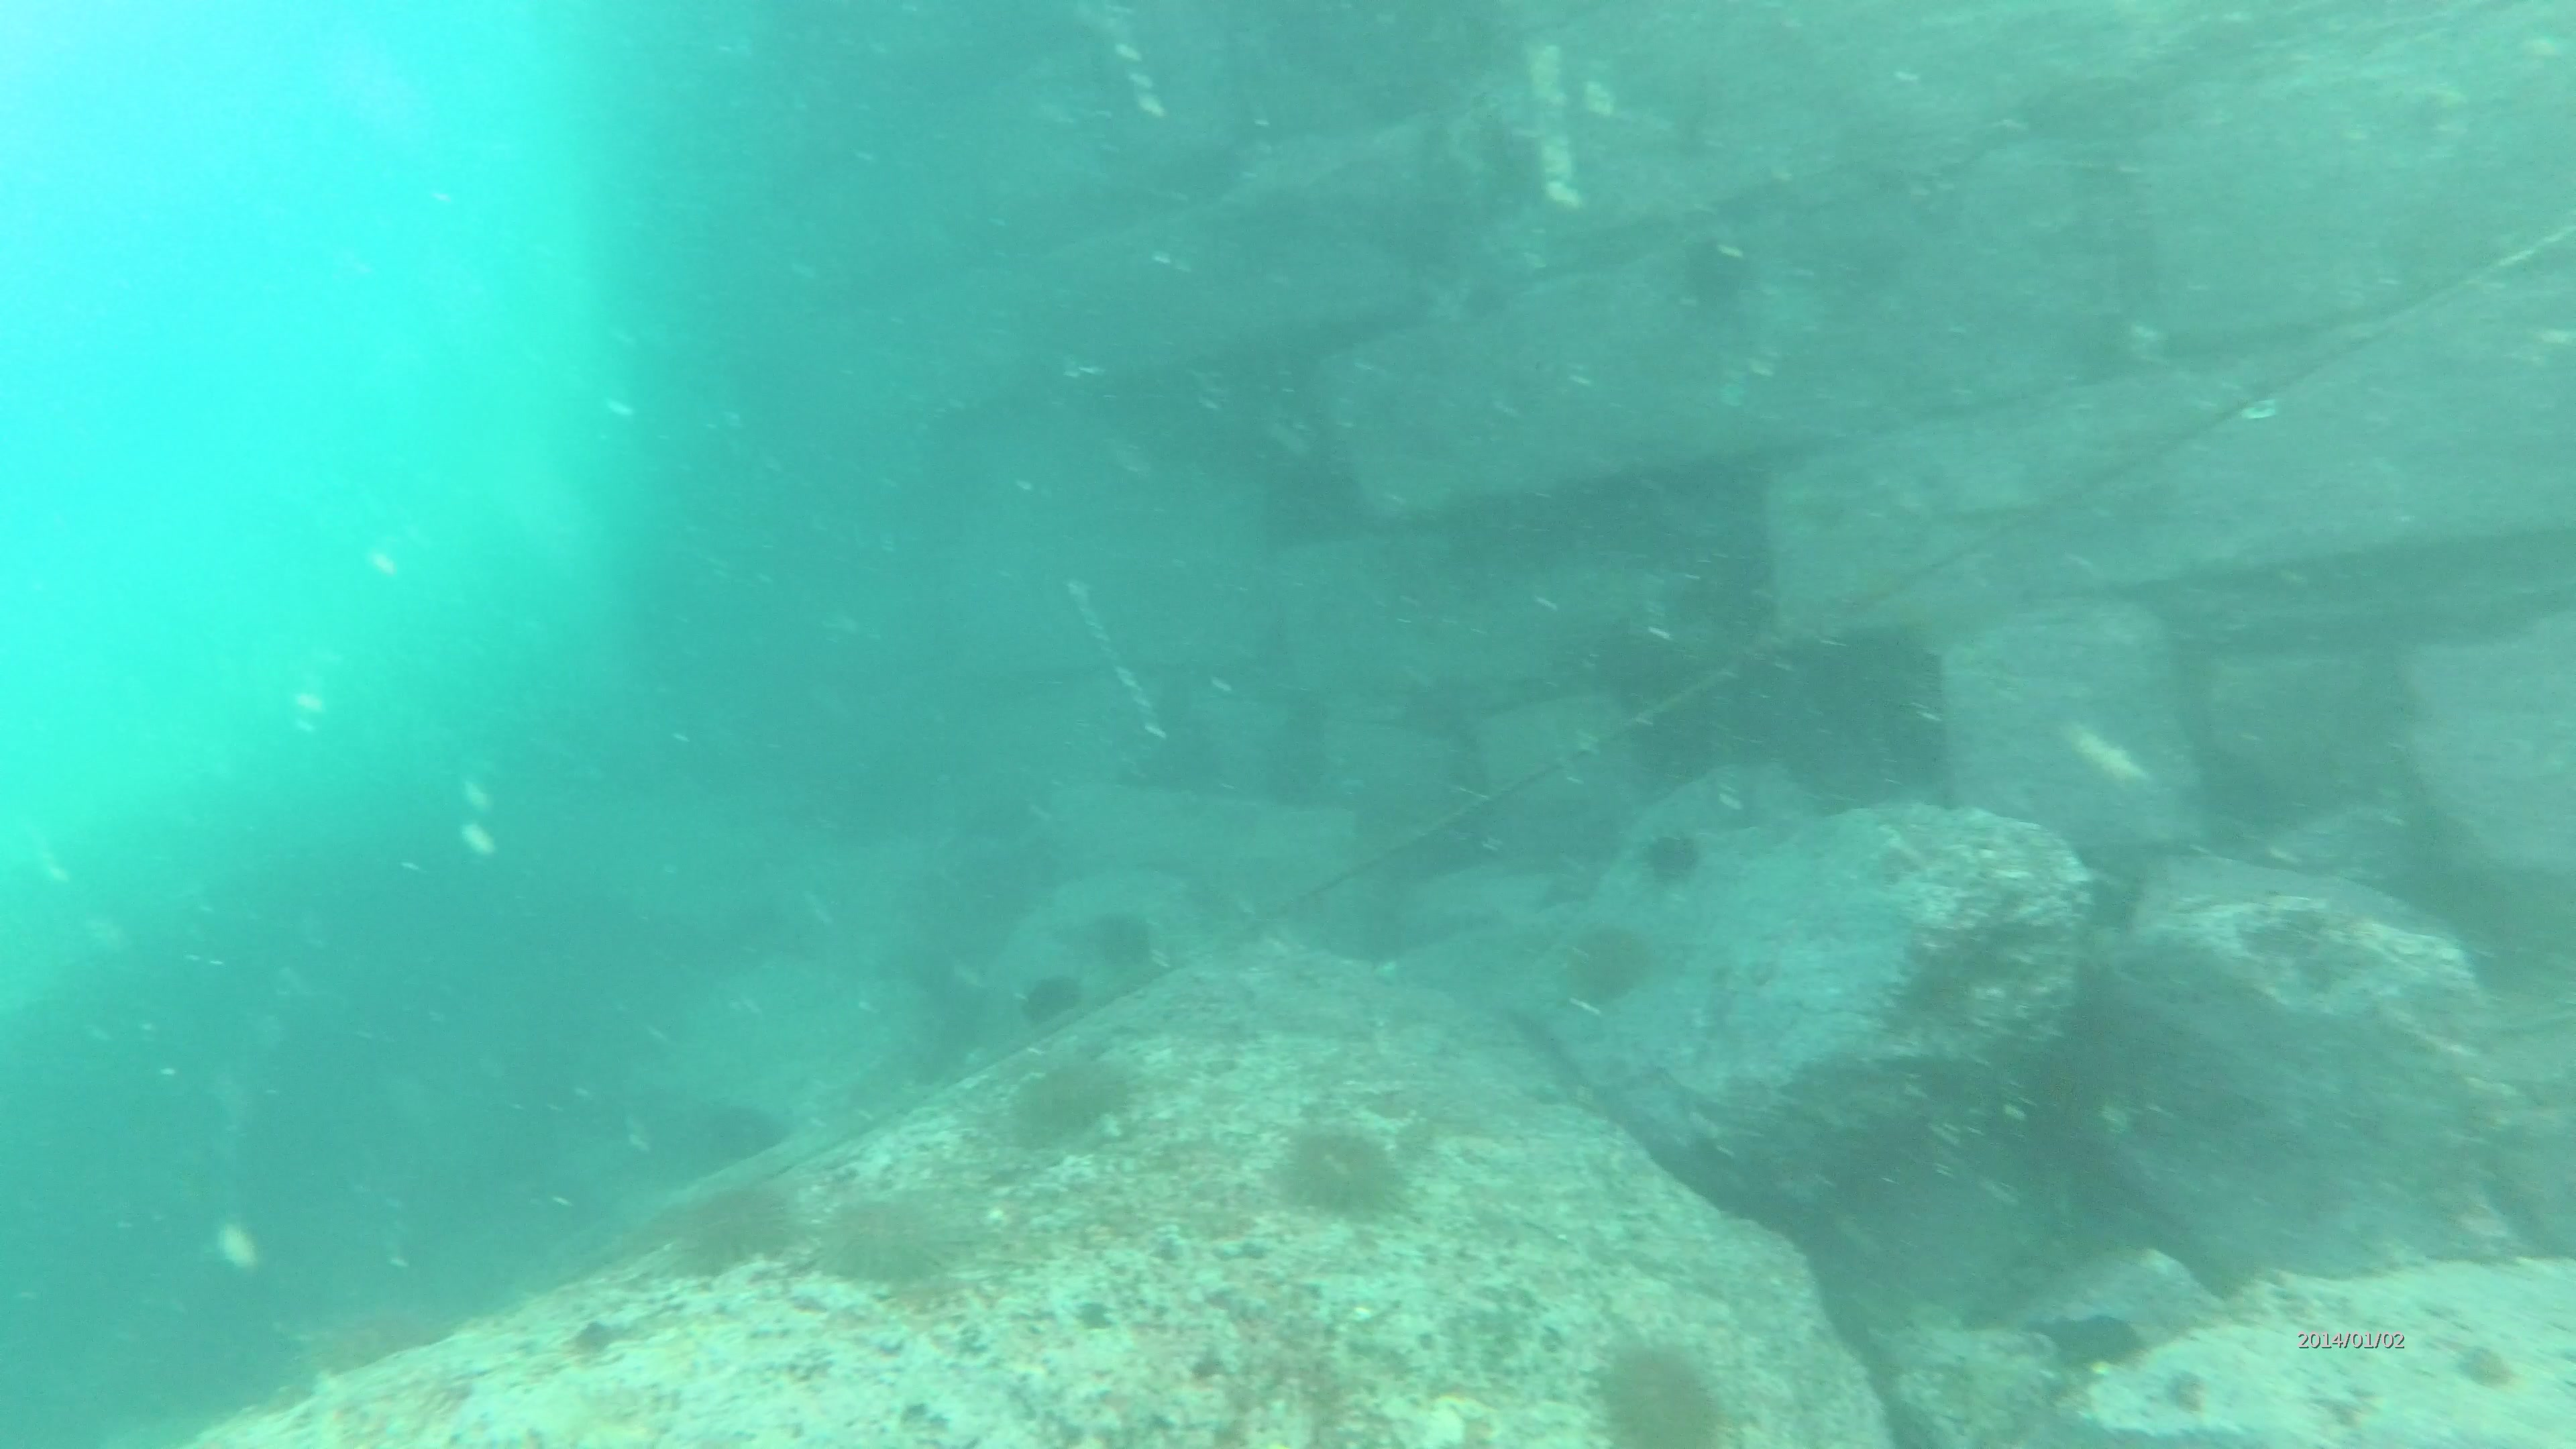echinus: (1580, 1323, 1732, 1444), (1249, 1131, 1417, 1212), (819, 1192, 959, 1288), (660, 1180, 780, 1267), (996, 1062, 1136, 1134), (1564, 913, 1633, 1001), (1012, 978, 1088, 1028), (1631, 826, 1706, 872)
